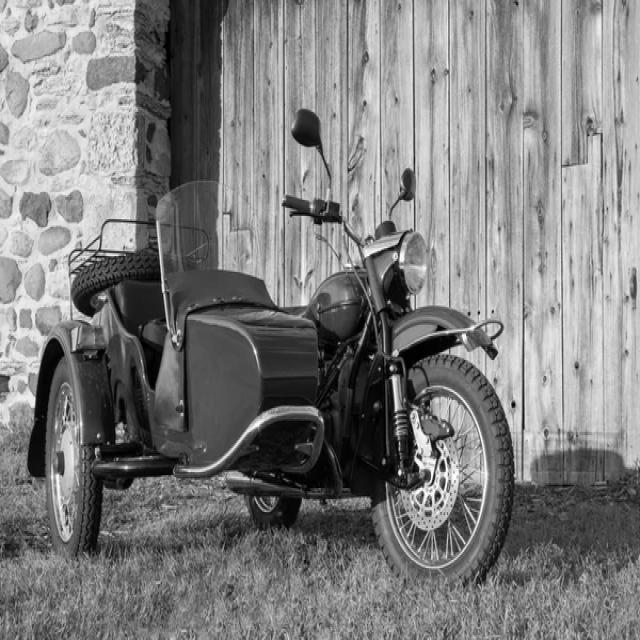Motorcycle: (27, 182, 514, 585)
